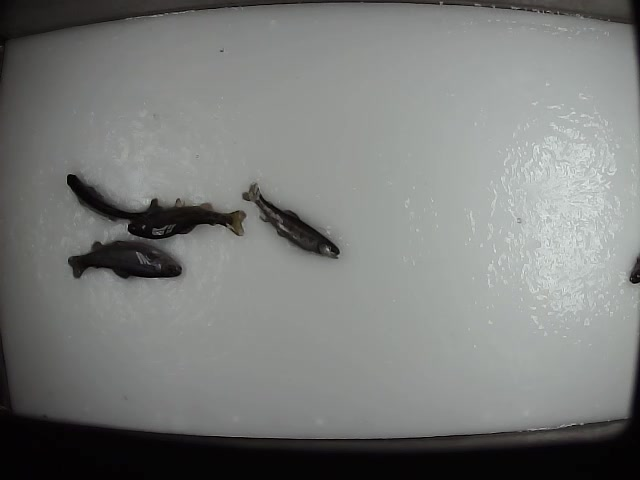fish: (243, 178, 342, 261), (62, 171, 165, 225), (125, 195, 248, 238), (67, 238, 185, 280)
